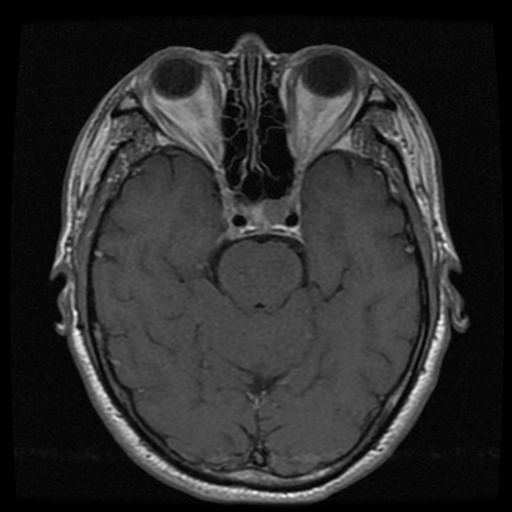pituitary: (251, 195, 297, 229)
